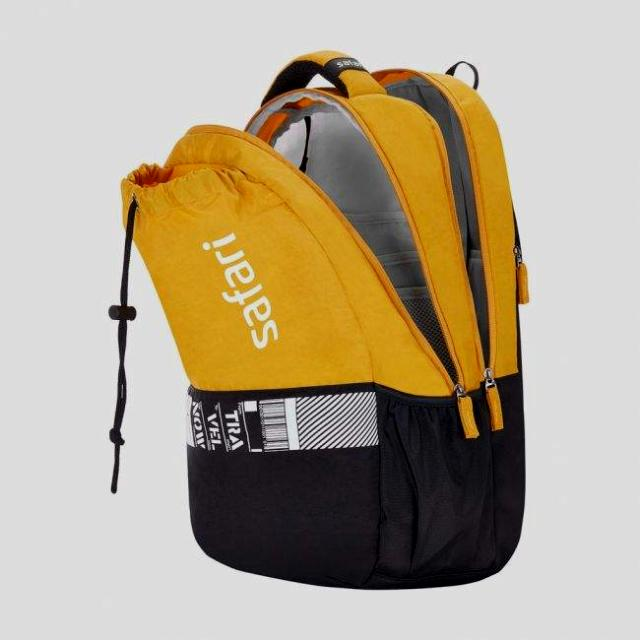backpack: (110, 51, 530, 591)
